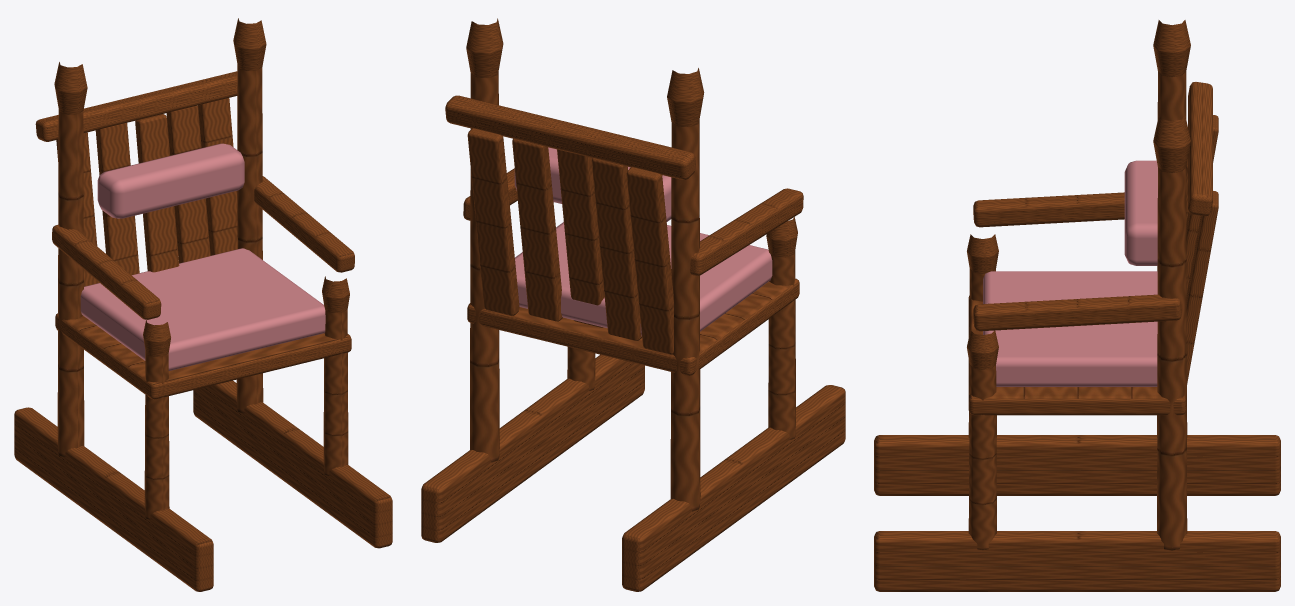
File: witch-cottage-and-apothecary-rocking-chair-5f3fe570__32446.glb
3 renders of one model, left to right at view 1: azimuth 30°, elevation 25°; view 2: azimuth 150°, elevation 25°; view 3: azimuth 270°, elevation 25°, orthographic. The views are drawn at different scales.
Parts seen in each view (by area): view 1: rocker/oak, rocker/wool; view 2: rocker/oak, rocker/wool; view 3: rocker/oak, rocker/wool.
Part boxes in pixels (x1,y1,x2,y2): rocker/oak: (14, 18, 392, 591); rocker/wool: (80, 143, 325, 370); rocker/oak: (421, 18, 845, 591); rocker/wool: (514, 147, 772, 336); rocker/oak: (874, 20, 1280, 591); rocker/wool: (983, 160, 1157, 386).
Bounding box in the file's own units: 0.58 × 1.1 × 0.86.
Materials: 2 (1 with a texture image).
